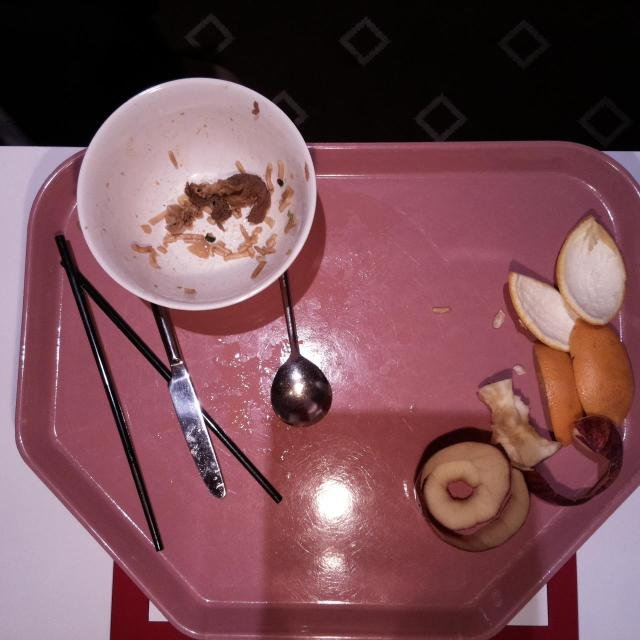Apple-core: (475, 376, 561, 468)
Apple-peel: (414, 439, 530, 553), (530, 413, 626, 507)
Meat: (182, 172, 270, 222)
Orange-peel: (554, 212, 628, 327), (569, 314, 635, 432), (505, 268, 587, 352), (530, 339, 590, 449)
